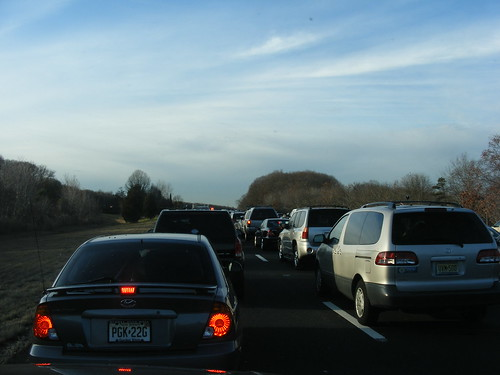car: (42, 233, 241, 375), (322, 209, 500, 328), (151, 210, 247, 285), (280, 204, 341, 268)
road: (208, 248, 500, 375)
sky: (1, 1, 500, 165)
vegetation: (1, 169, 164, 260), (247, 164, 500, 207)
